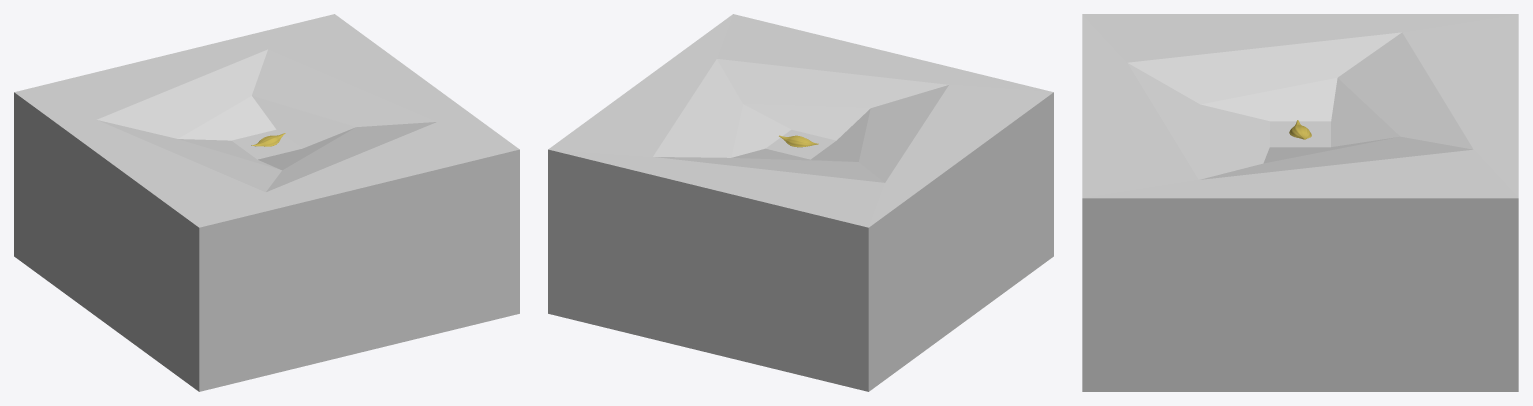
The model's file is Zolla terra con seme 1.fbx.
The picture shows the model from 3 angles, left to right: view 1: azimuth 30°, elevation 25°; view 2: azimuth 150°, elevation 25°; view 3: azimuth 270°, elevation 25°; orthographic projection. The views are drawn at different scales.
Parts seen in each view (by area): view 1: Cube.003; view 2: Cube.003; view 3: Cube.003.
Part boxes in pixels (bbox=[...]): Cube.003: bbox=[14, 14, 519, 391]; Cube.003: bbox=[548, 14, 1053, 391]; Cube.003: bbox=[1082, 14, 1518, 391].
Bounding box in the file's own units: 50 × 24.55 × 50.
